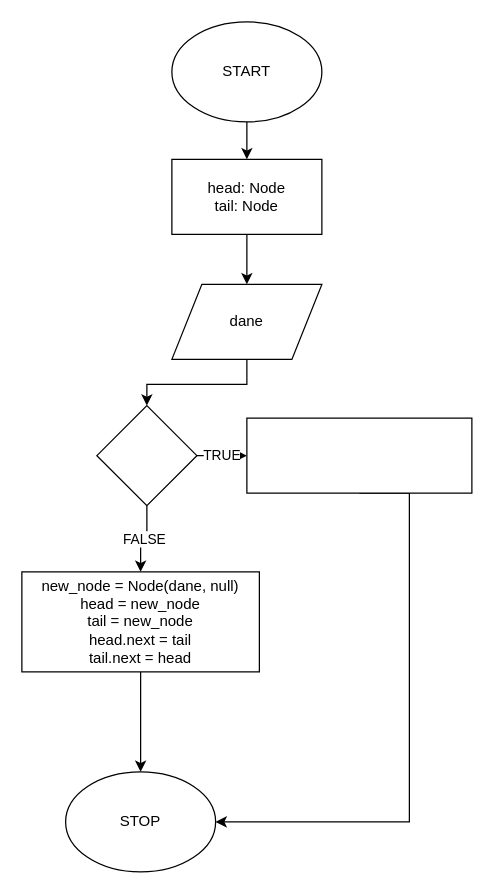
This 494x894 diagram has some shape labels left out. The shapes that lost their labels are listed below. From the top down, each one's centre as x and y in pixels, then its label:
At [146,455]: "head".
At [359,455]: "new_node = Node(dane, null) tail.next = new_node tail = new_node".
